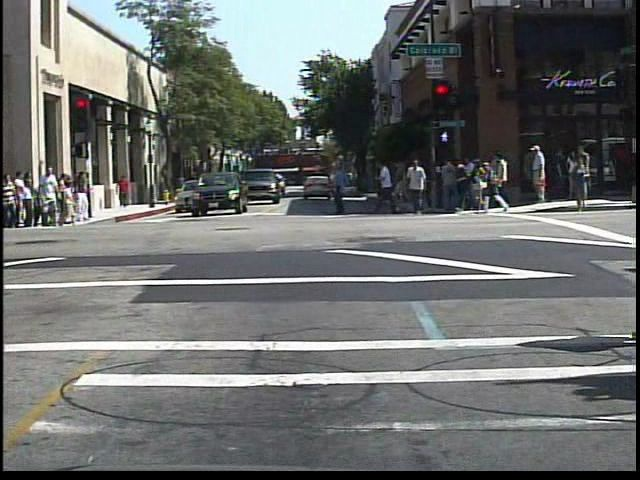person: (525, 145, 552, 207), (39, 166, 64, 229), (0, 171, 21, 230), (115, 172, 133, 210)
